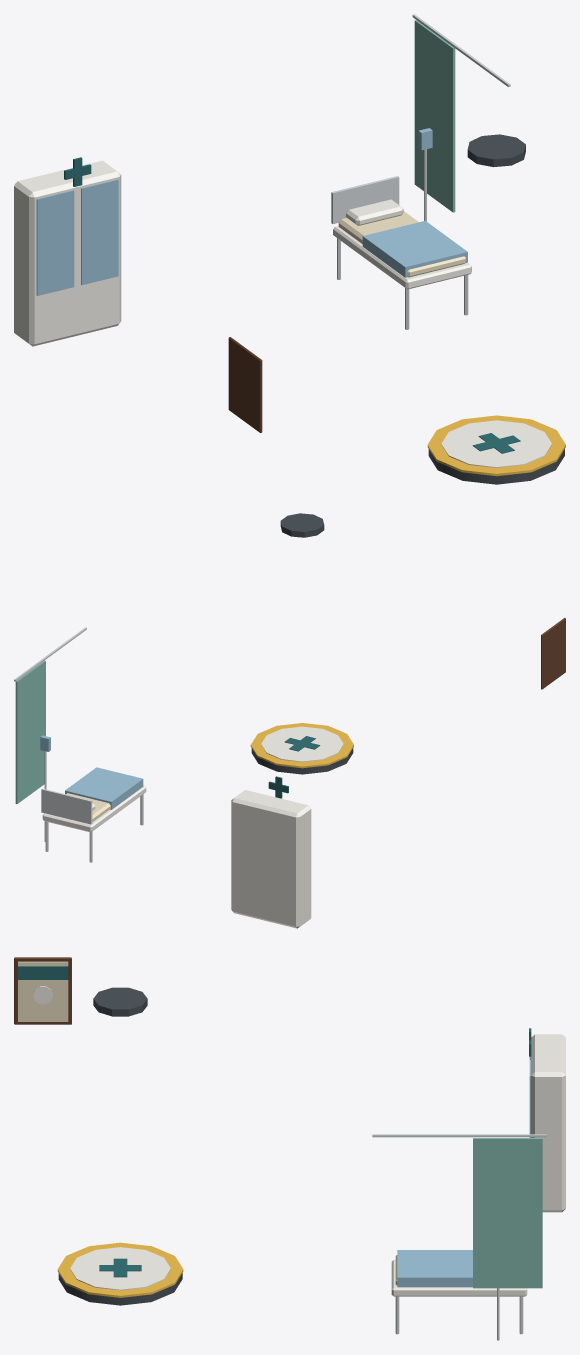
Rendered from Room_Medbay_L1.fbx.
3 renders of one model, top to bottom at view 1: azimuth 30°, elevation 25°; view 2: azimuth 150°, elevation 25°; view 3: azimuth 270°, elevation 25°, orthographic. The views are drawn at different scales.
Visible parts, largest first — view 1: Decor, Cabinet1, DecorGlass, Bed1, RespawnPad; view 2: Decor, Cabinet1, Bed1, RespawnPad; view 3: Decor, Cabinet1, Bed1, RespawnPad.
Part boxes in pixels (left/top/right/bottom): Decor: left=64, top=14, right=565, bottom=476; Cabinet1: left=14, top=160, right=121, bottom=346; DecorGlass: left=36, top=179, right=118, bottom=295; Bed1: left=333, top=226, right=471, bottom=289; RespawnPad: left=428, top=449, right=564, bottom=484; Decor: left=14, top=513, right=565, bottom=862; Cabinet1: left=231, top=790, right=311, bottom=928; Bed1: left=42, top=785, right=146, bottom=832; RespawnPad: left=251, top=748, right=353, bottom=774; Decor: left=14, top=957, right=546, bottom=1340; Cabinet1: left=531, top=1034, right=565, bottom=1212; Bed1: left=391, top=1260, right=527, bottom=1296; RespawnPad: left=58, top=1273, right=182, bottom=1305.
Bounding box in the file's own units: 24.26 × 16 × 28.5.
